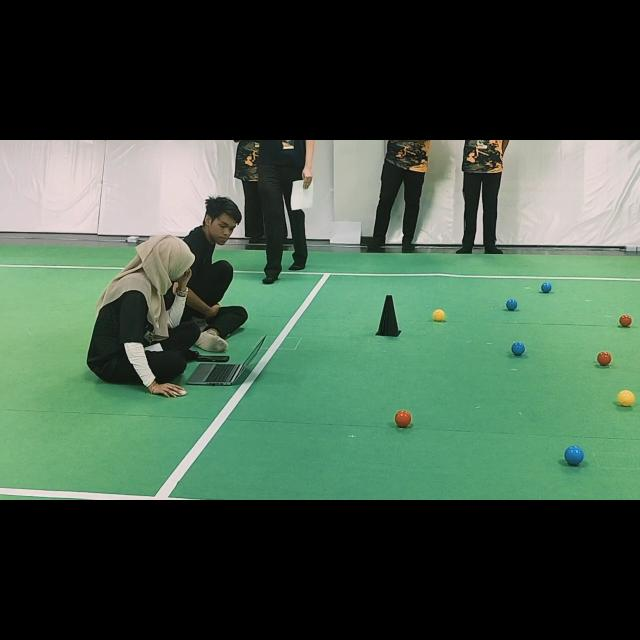ball: (564, 445, 584, 466), (395, 410, 412, 428), (618, 390, 635, 406), (596, 351, 612, 366), (511, 341, 525, 354), (619, 314, 632, 327), (432, 309, 445, 321), (506, 299, 518, 311), (541, 282, 551, 292), (620, 390, 623, 392)
